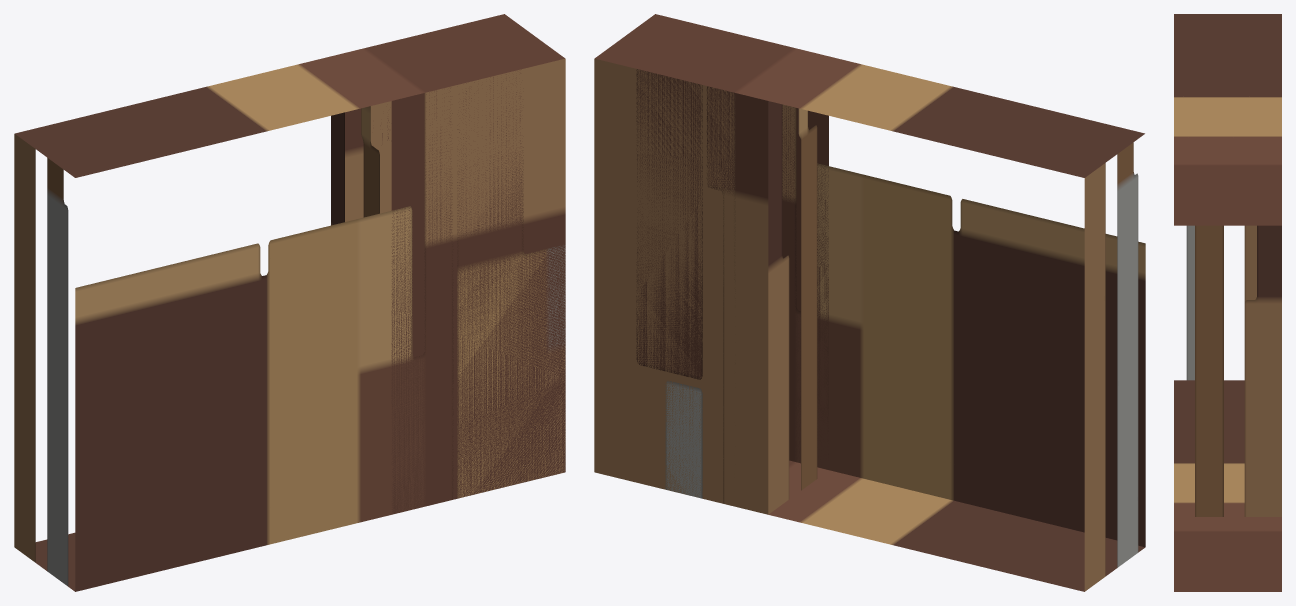
Rendered from section-6.obj.
3 views of the same model, side by side, from view 1: azimuth 30°, elevation 25°; view 2: azimuth 150°, elevation 25°; view 3: azimuth 270°, elevation 25° (orthographic). The views are drawn at different scales.
Bounding box in the file's own units: 0.9296 × 0.75 × 0.2.
